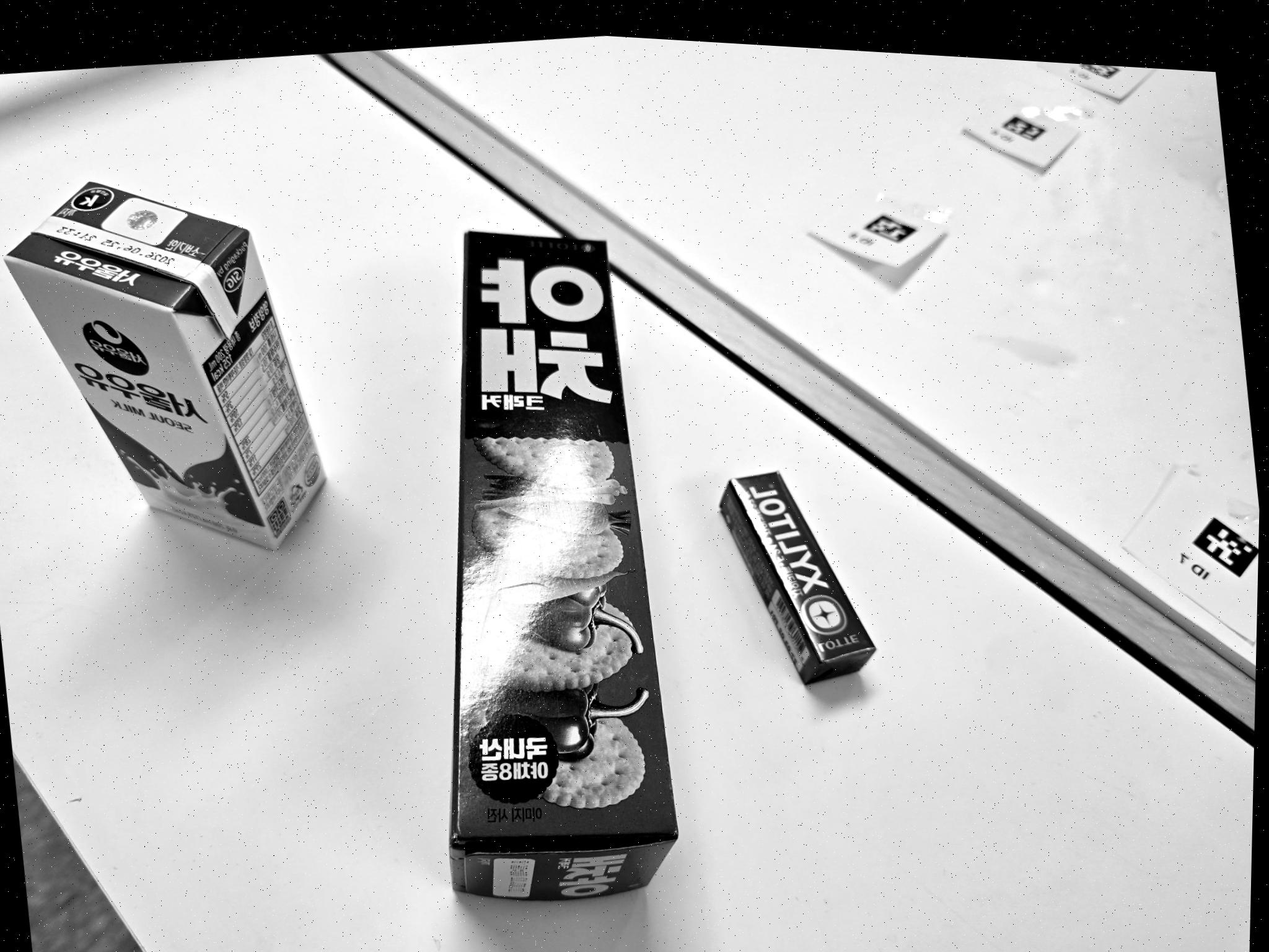cracker_vege: (451, 232, 677, 901)
gum_green: (721, 472, 875, 684)
milk_green: (6, 185, 325, 548)
